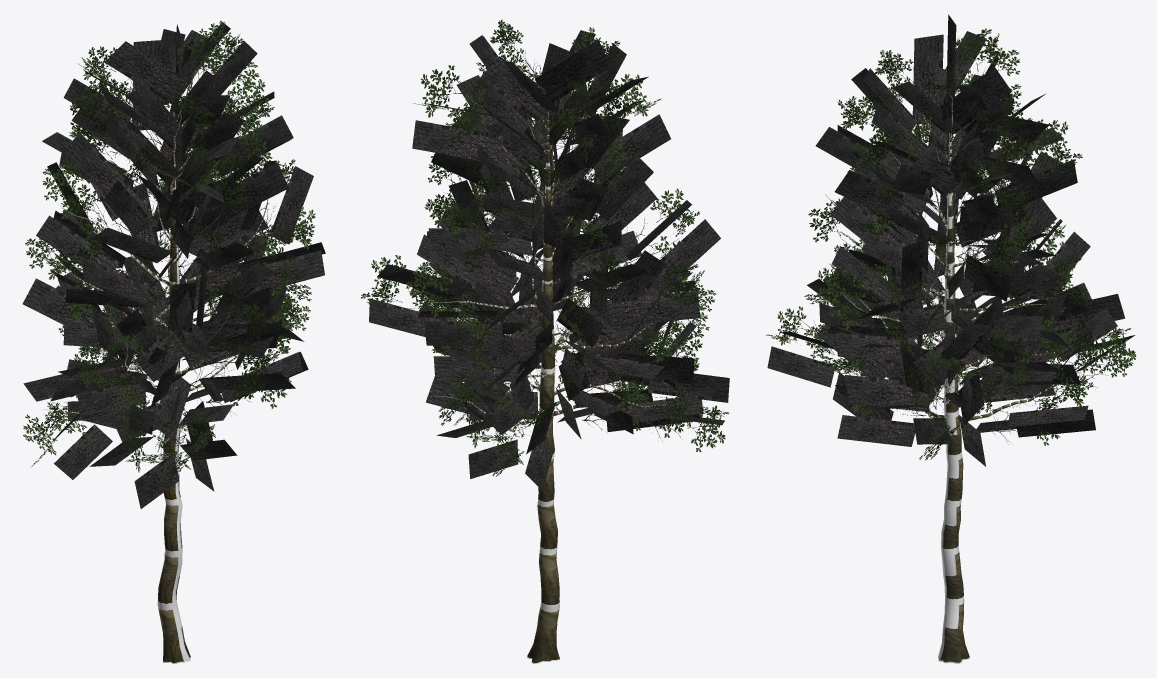
File: TreeOak01_Test1_1.fbx
3 views of the same model, side by side, from view 1: azimuth 30°, elevation 25°; view 2: azimuth 150°, elevation 25°; view 3: azimuth 270°, elevation 25° (orthographic).
Visible parts, largest first — view 1: TreeOak01_Test_1; view 2: TreeOak01_Test_1; view 3: TreeOak01_Test_1.
Boxes of the visible parts, left/top/right/bottom form: TreeOak01_Test_1: left=22, top=20, right=325, bottom=663; TreeOak01_Test_1: left=361, top=20, right=729, bottom=663; TreeOak01_Test_1: left=766, top=14, right=1136, bottom=663.
Bounding box in the file's own units: 734 × 1351 × 752.
